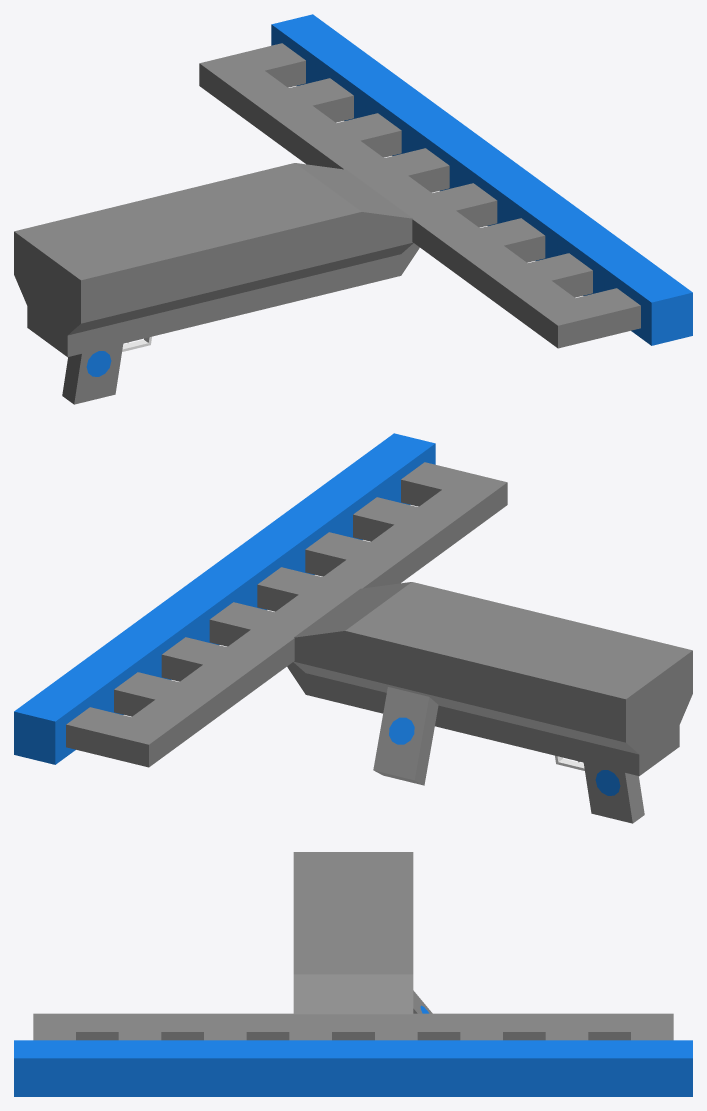
Rendered from Test_Plasma.fbx.
3 renders of one model, top to bottom at view 1: azimuth 30°, elevation 25°; view 2: azimuth 150°, elevation 25°; view 3: azimuth 270°, elevation 25°, orthographic. The views are drawn at different scales.
Visible parts, largest first — view 1: Pistol; view 2: Pistol; view 3: Pistol.
Part boxes in pixels (x1,y1,x2,y2): Pistol: (14, 14, 692, 404); Pistol: (14, 433, 692, 823); Pistol: (14, 852, 692, 1096).
Bounding box in the file's own units: 220 × 69 × 318.
